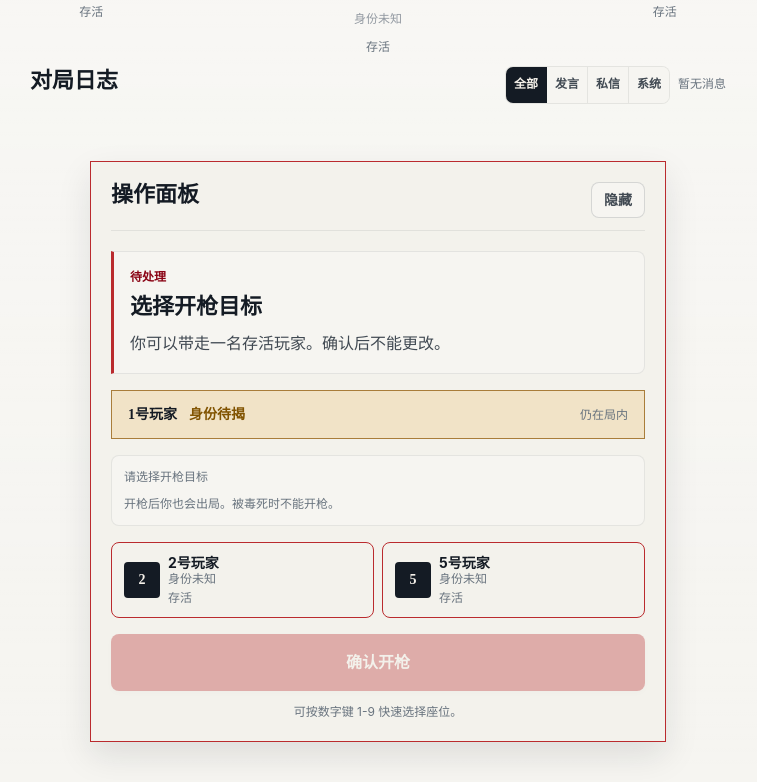
App › submits hunter shoot actions through the app websocket bridge
(page scrolled)
Expected: the text "请选择开枪目标" is shown, [124,469,208,484]
Click the button "5 5号玩家 身份未知 存活" at (413, 580), box [382,542,645,618]
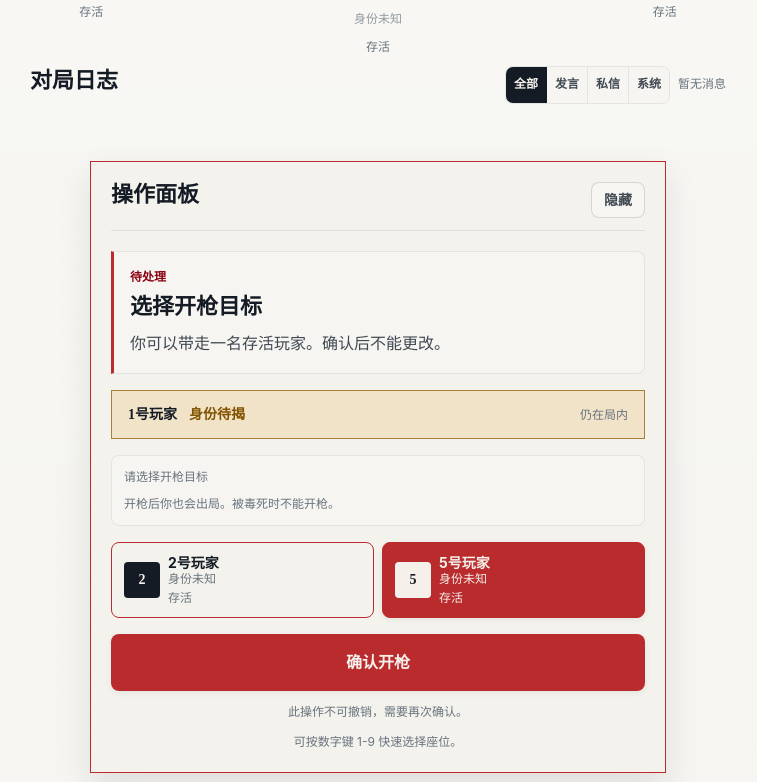
# HUNTER_SHOOT requires two-step confirm.
Click the button "确认开枪" at (378, 662), box [111,634,645,691]
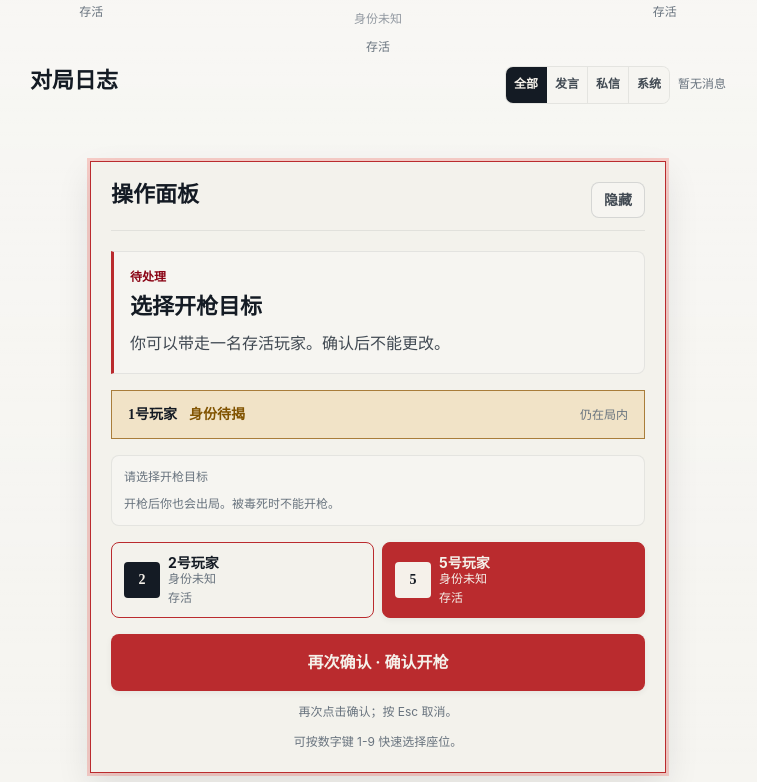
Click the button "再次确认 · 确认开枪" at (378, 662), box [111,634,645,691]
(page scrolled)
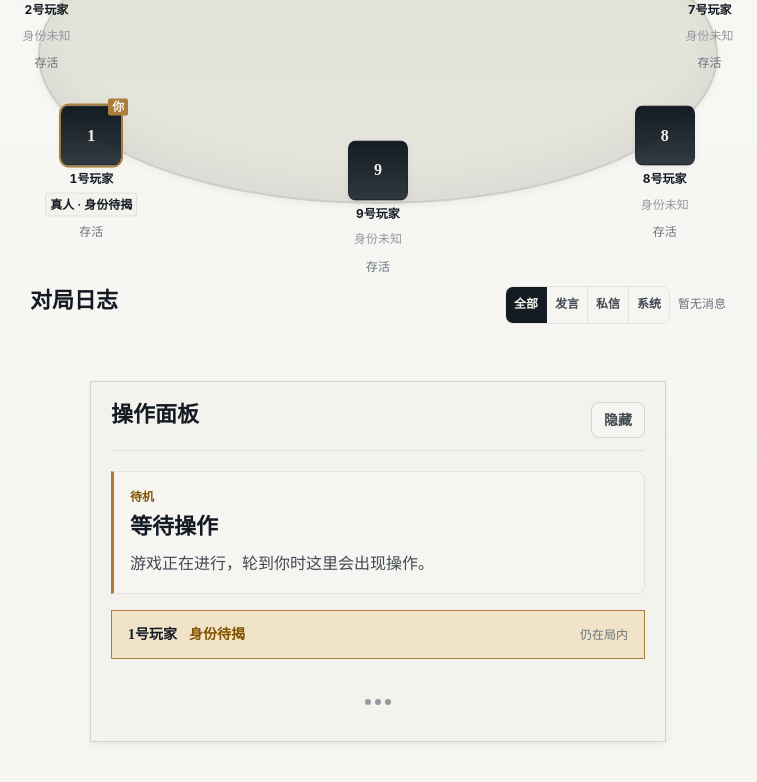
Now the element with class "action-idle" is shown, box [365,699,391,705]
